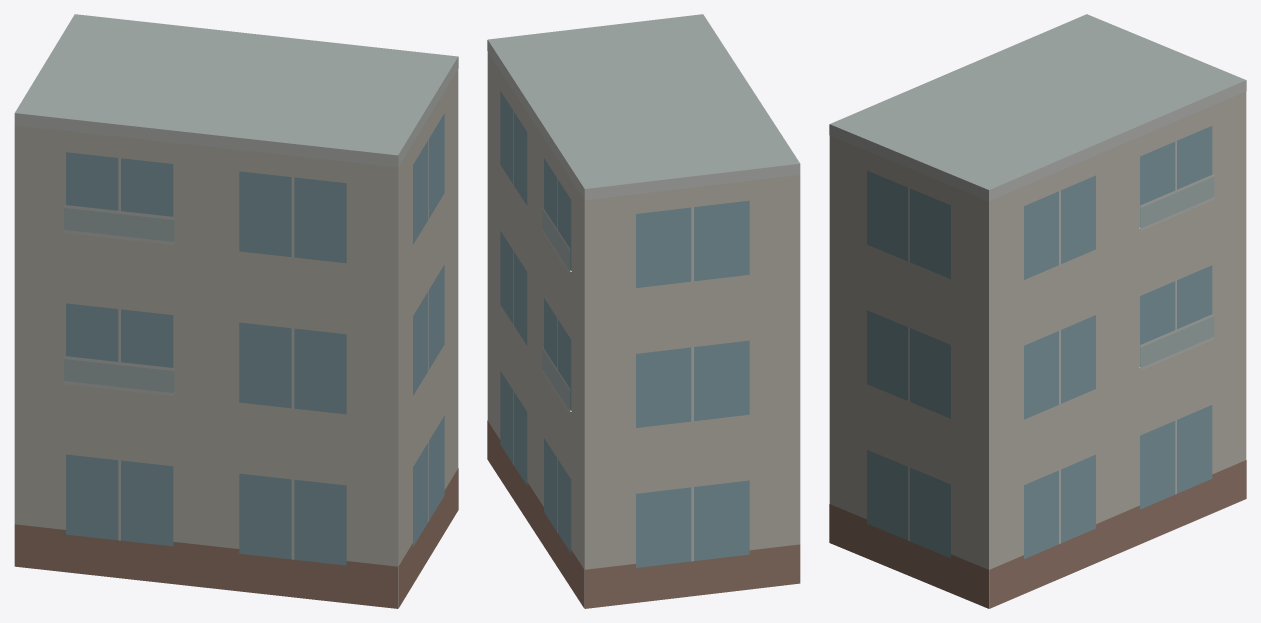
Rendered from survey-upis-32718475.glb.
The picture shows the model from 3 angles, left to right: view 1: azimuth 30°, elevation 25°; view 2: azimuth 150°, elevation 25°; view 3: azimuth 270°, elevation 25°; orthographic projection. The views are drawn at different scales.
Parts seen in each view (by area): view 1: survey-upis-32718475.tmp; view 2: survey-upis-32718475.tmp; view 3: survey-upis-32718475.tmp.
Part boxes in pixels (x1=…): survey-upis-32718475.tmp: x1=14, y1=14, x2=458, y2=608; survey-upis-32718475.tmp: x1=487, y1=14, x2=800, y2=608; survey-upis-32718475.tmp: x1=829, y1=14, x2=1246, y2=608.
Bounding box in the file's own units: 8.26 × 9.15 × 8.26.
